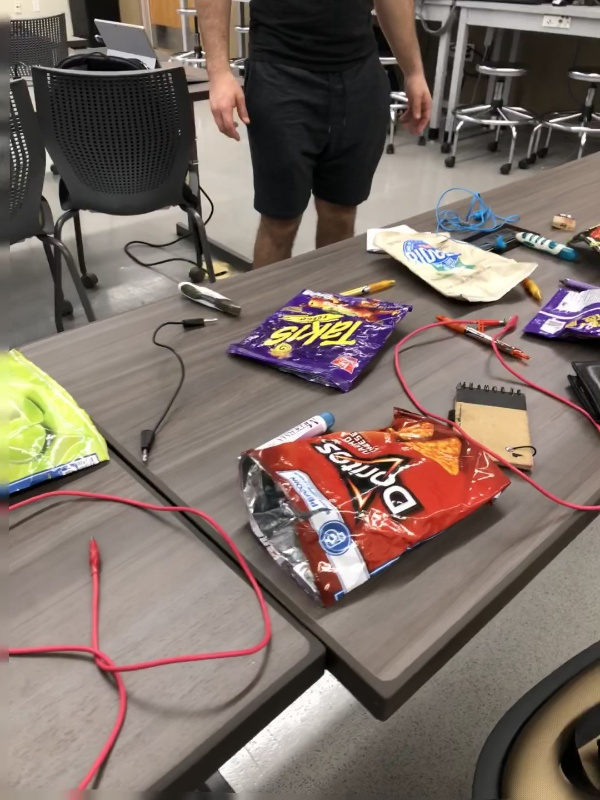bag: (232, 405, 515, 615), (224, 287, 415, 392), (1, 343, 116, 508), (366, 224, 543, 315), (522, 279, 600, 349)
